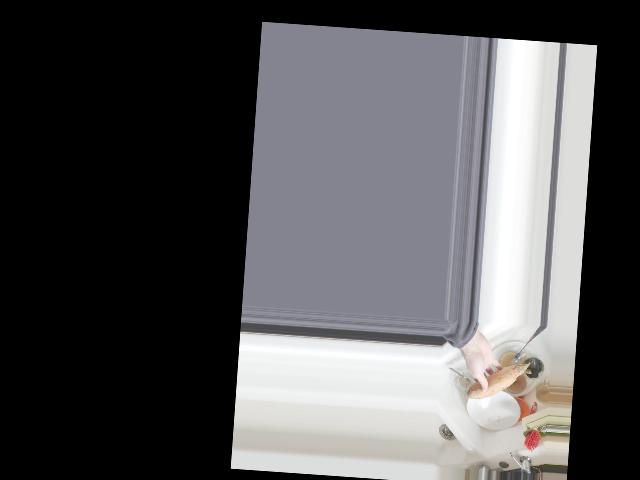sweet_potato: (465, 356, 528, 404)
